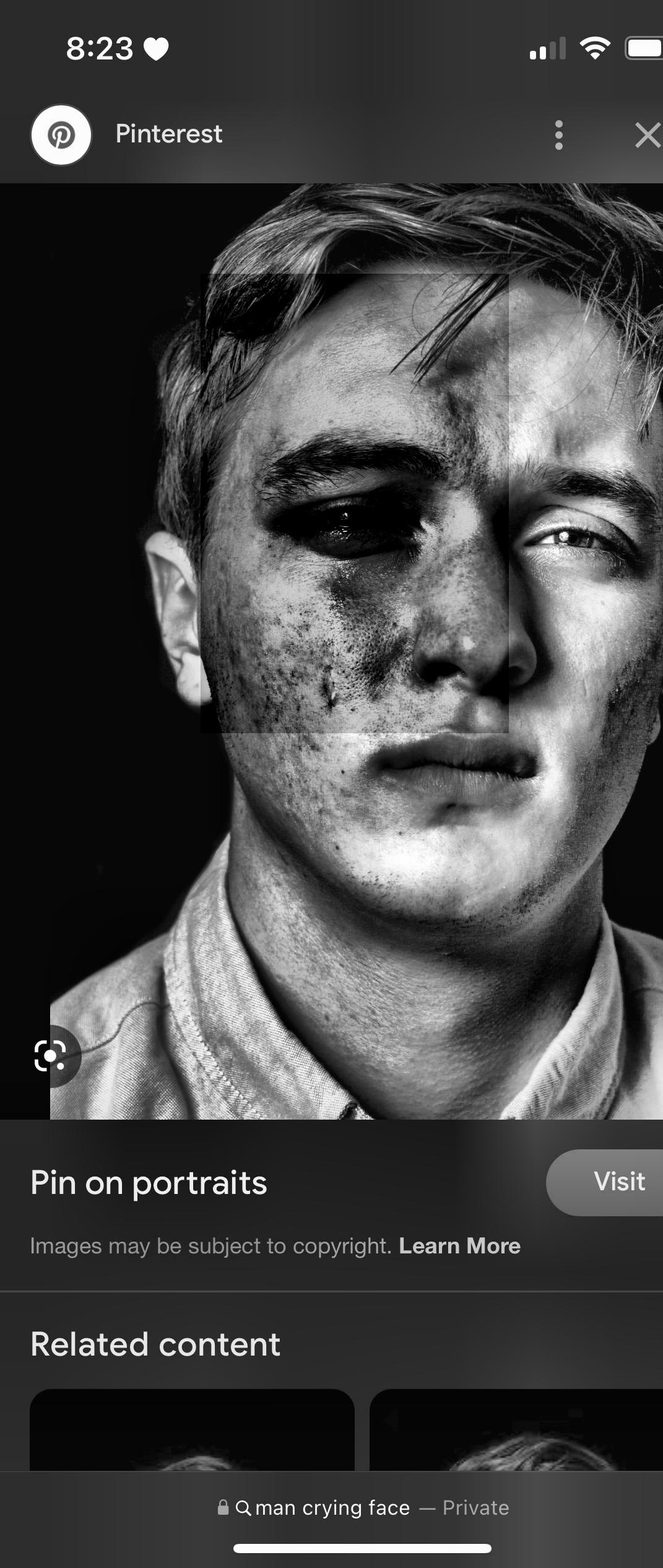sad: (248, 339, 629, 906)
